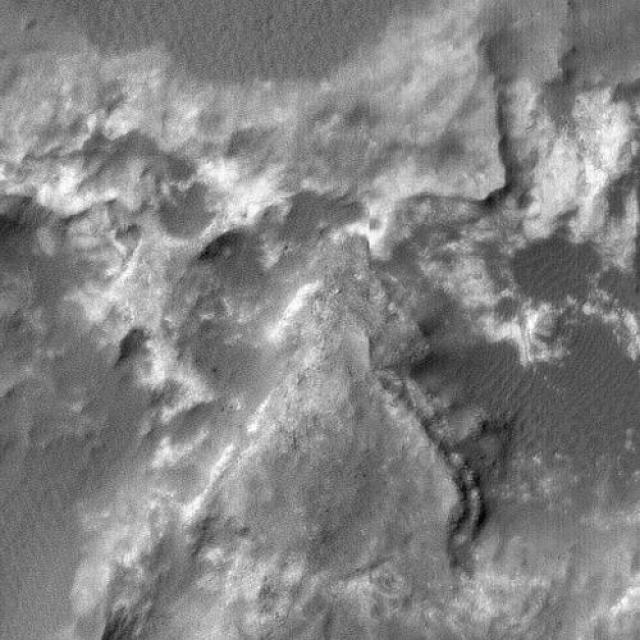crater: (0, 0, 517, 369), (0, 130, 111, 404), (0, 0, 132, 133)
